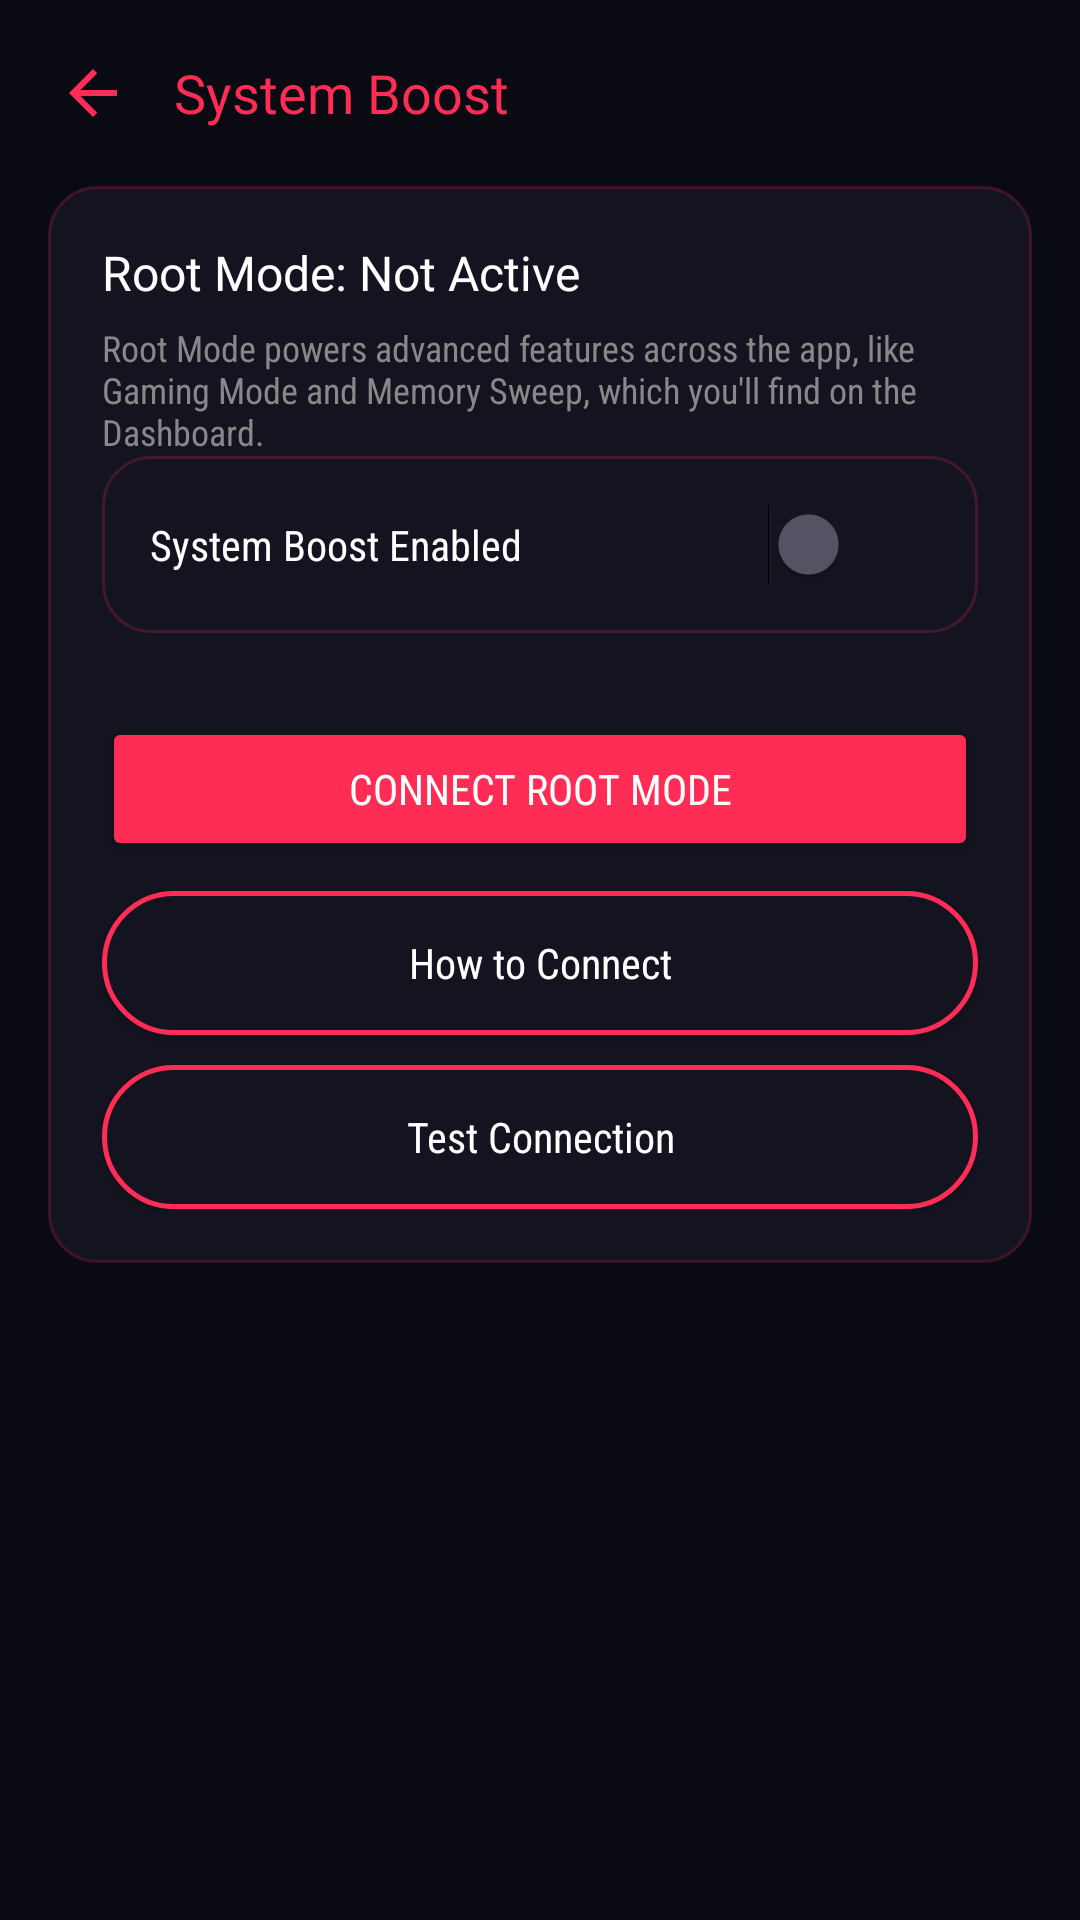

Where icons sit on this 1080px x 1920px app screen, as (x1, y1, x2, y2):
Back: (69, 69, 117, 117)
